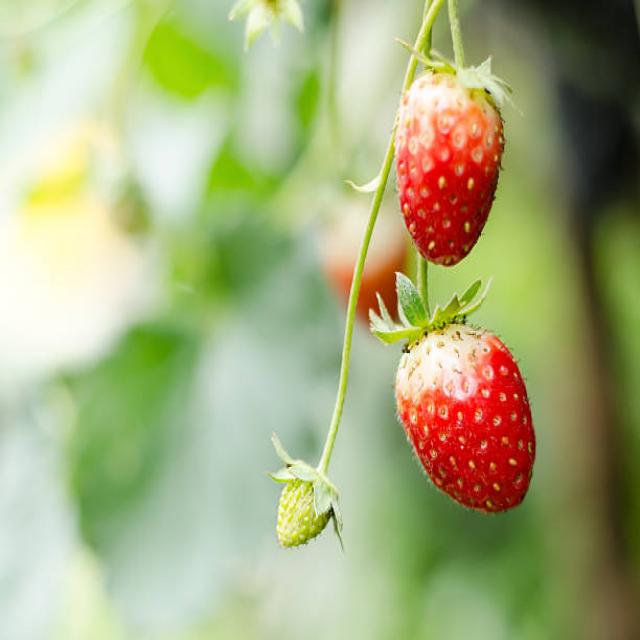Healthy Fruit: (395, 326, 534, 516), (395, 69, 505, 269)
